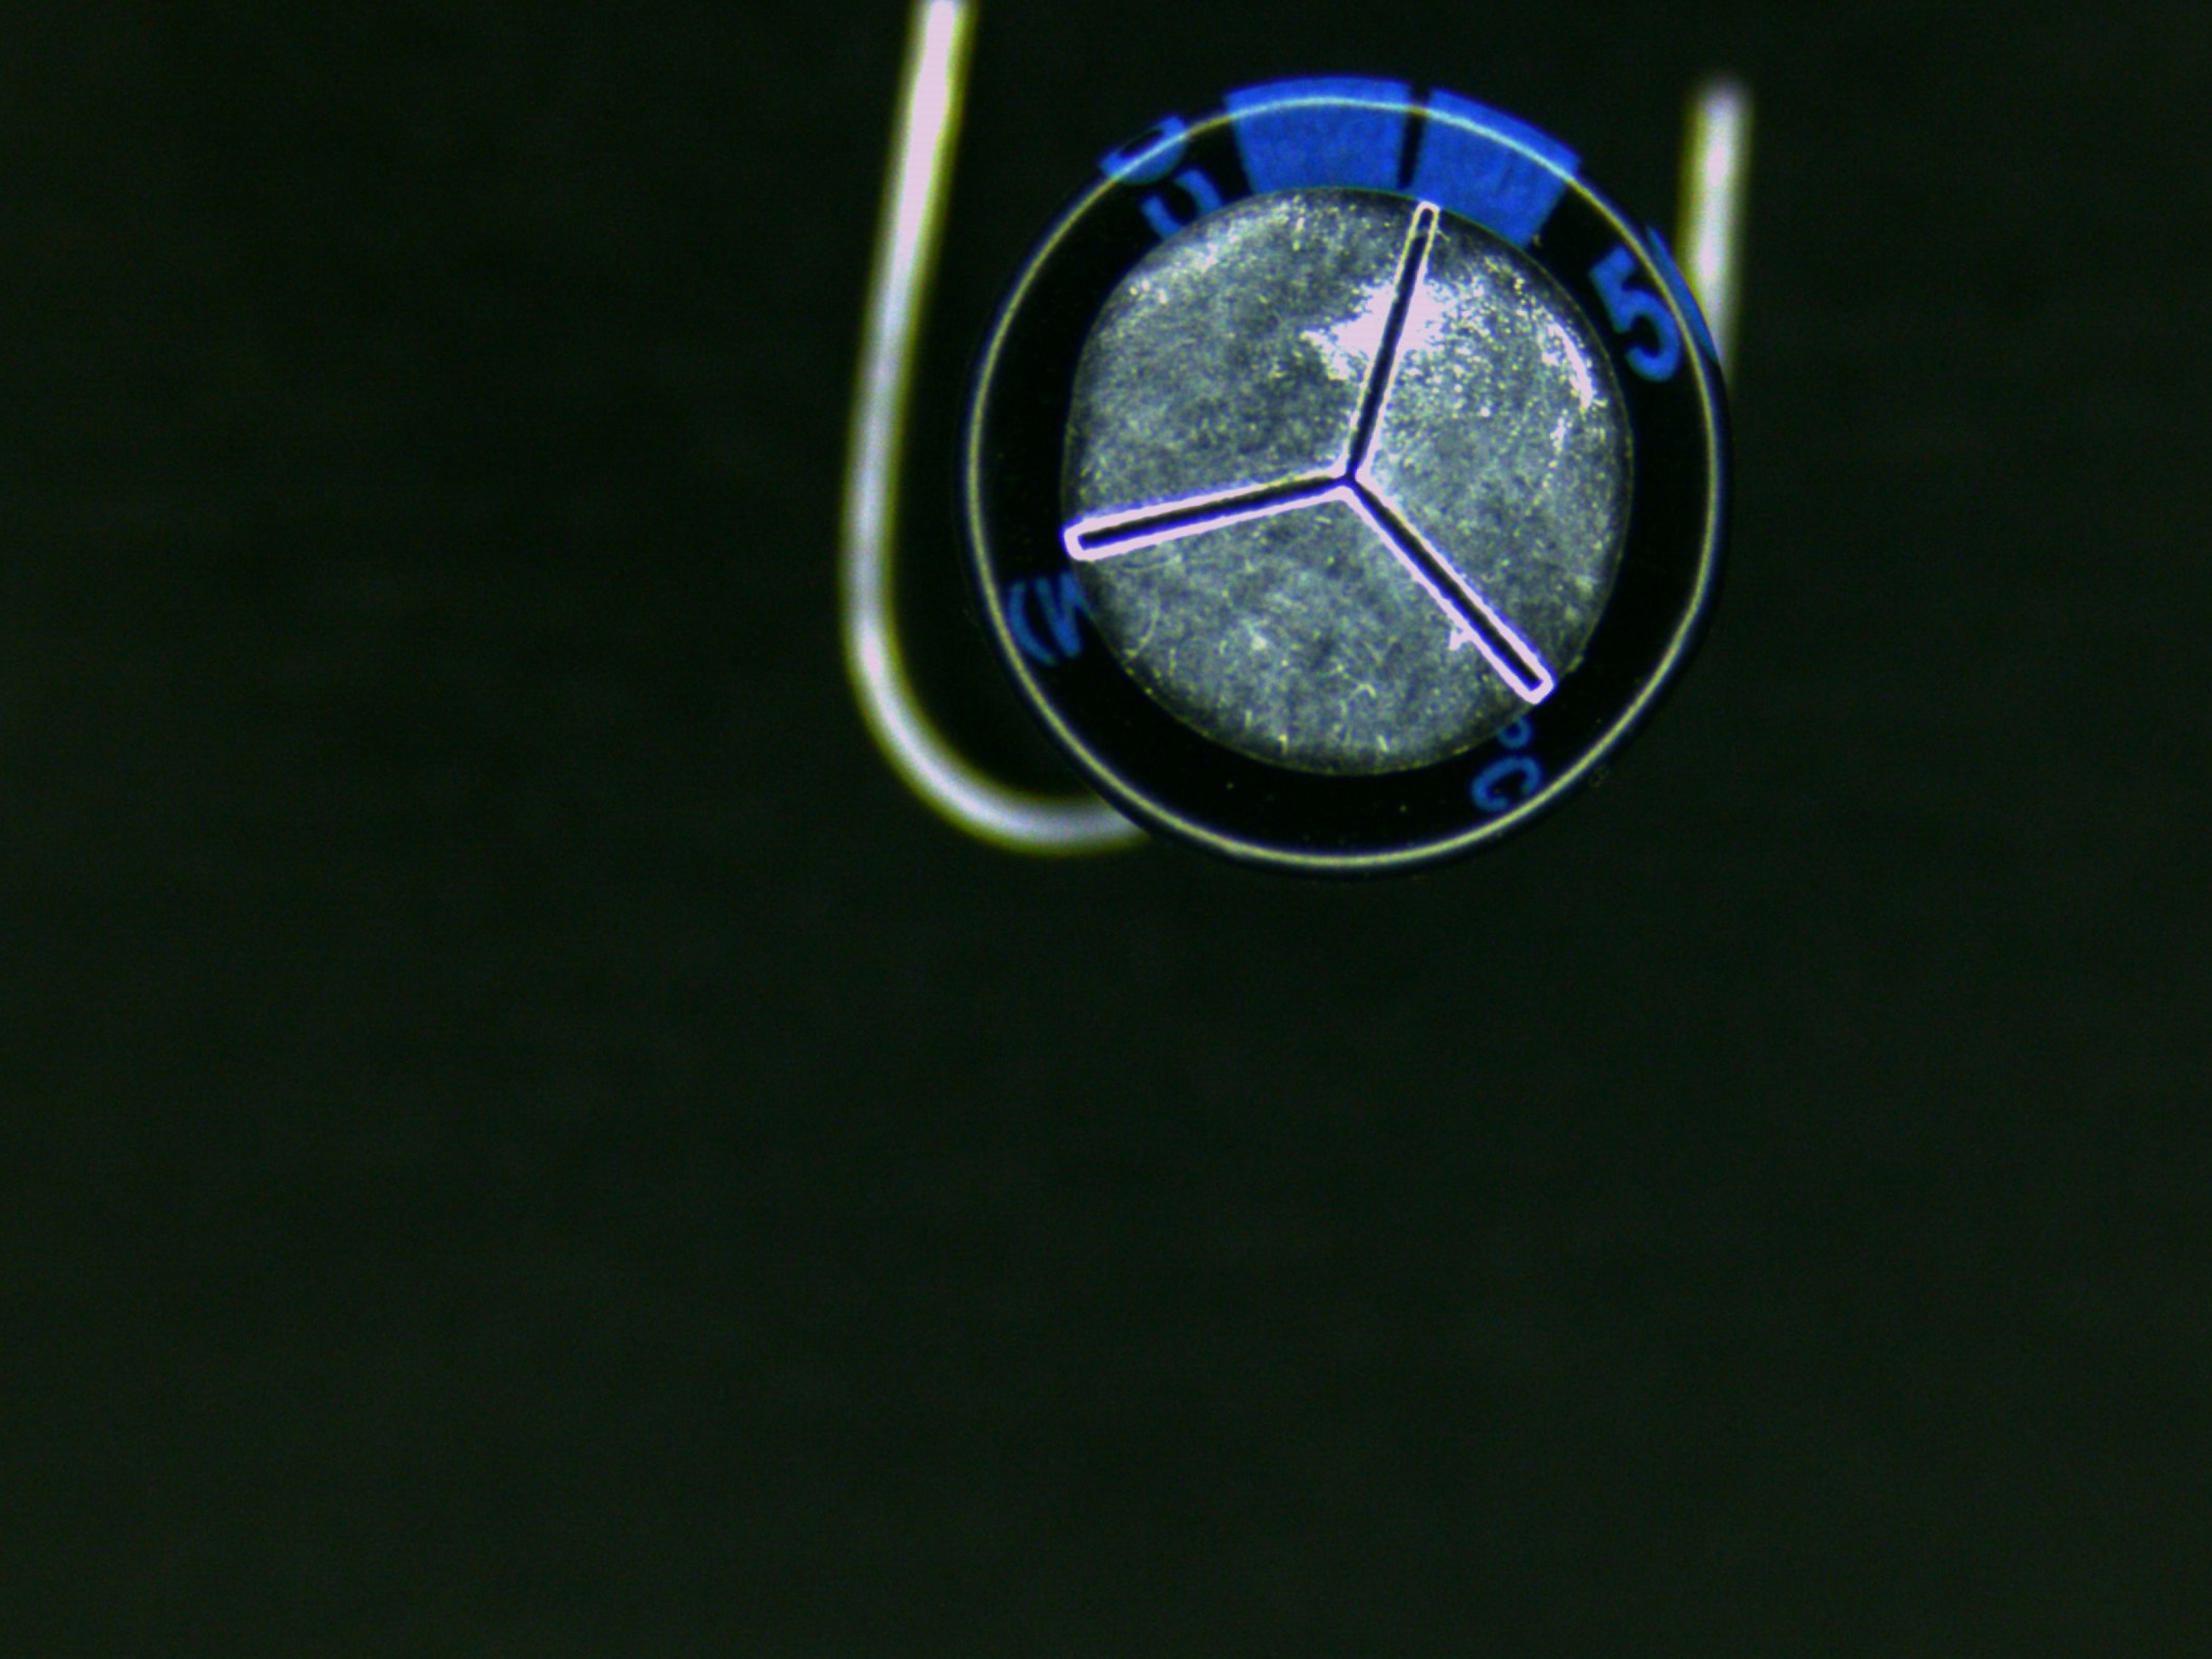c2: (977, 70, 1731, 873)
